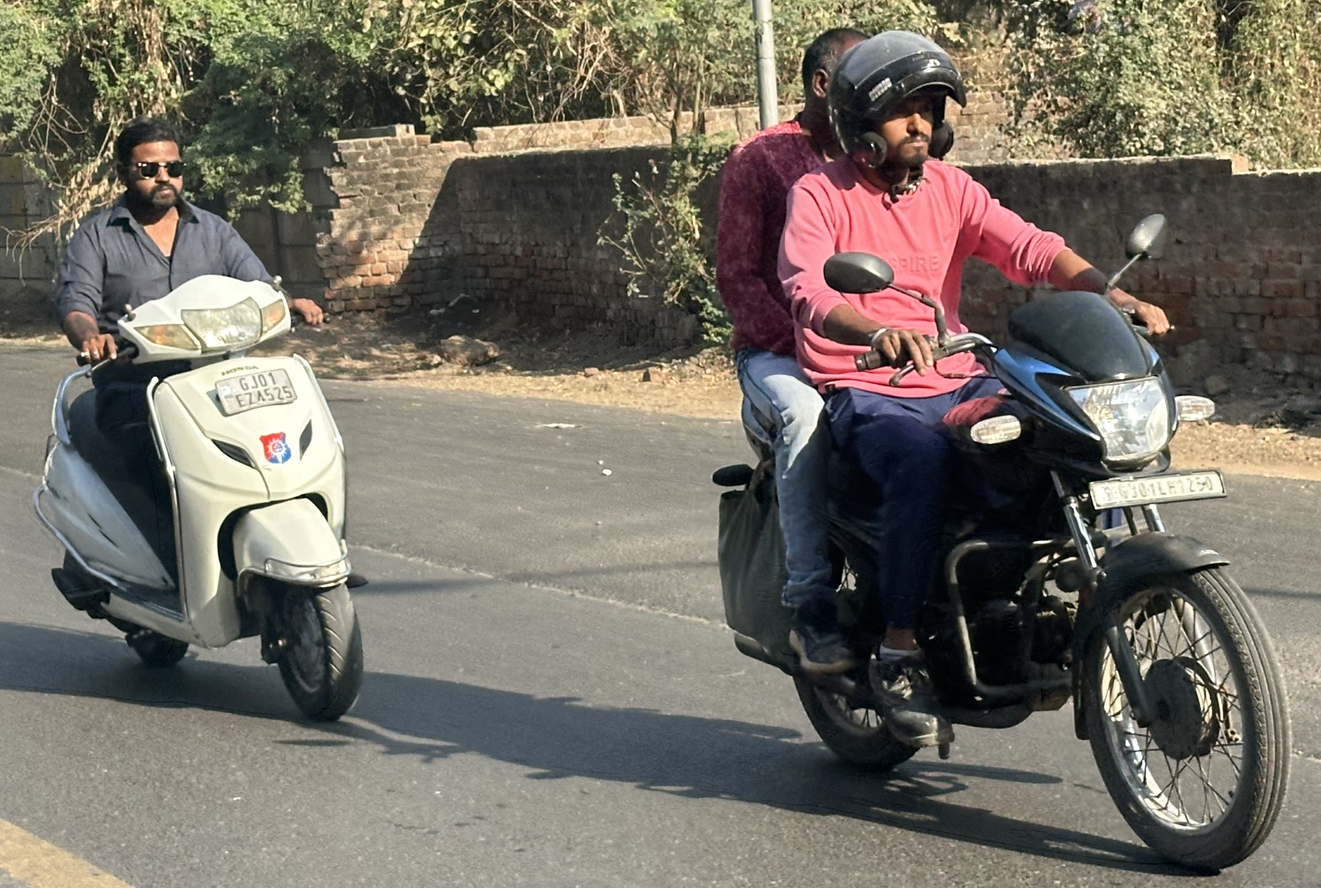BikeWithRider: (696, 16, 1304, 879), (20, 108, 382, 732)
Helmet: (820, 21, 979, 190)
NoHelmet: (784, 20, 881, 151), (99, 112, 204, 222)
